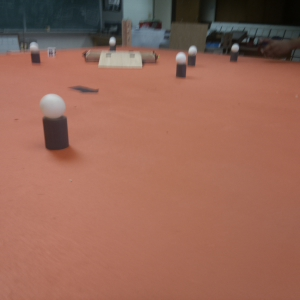obstacle: (38, 92, 71, 151), (173, 52, 185, 78), (31, 41, 42, 66), (188, 45, 197, 69), (228, 44, 240, 62), (108, 36, 117, 51)
side: (83, 48, 100, 65), (144, 49, 159, 66)
slope: (102, 54, 142, 69)
